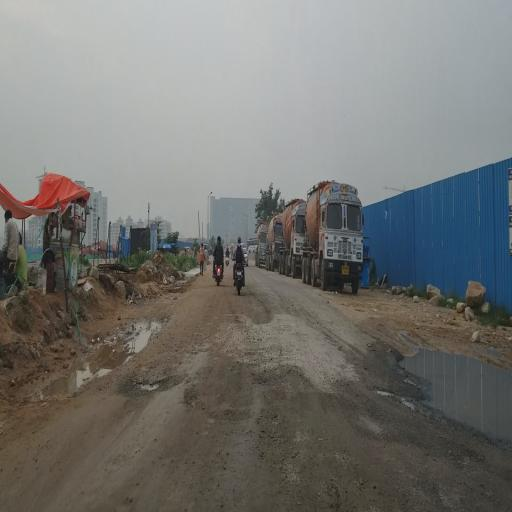street_light_0: (204, 184, 216, 206)
